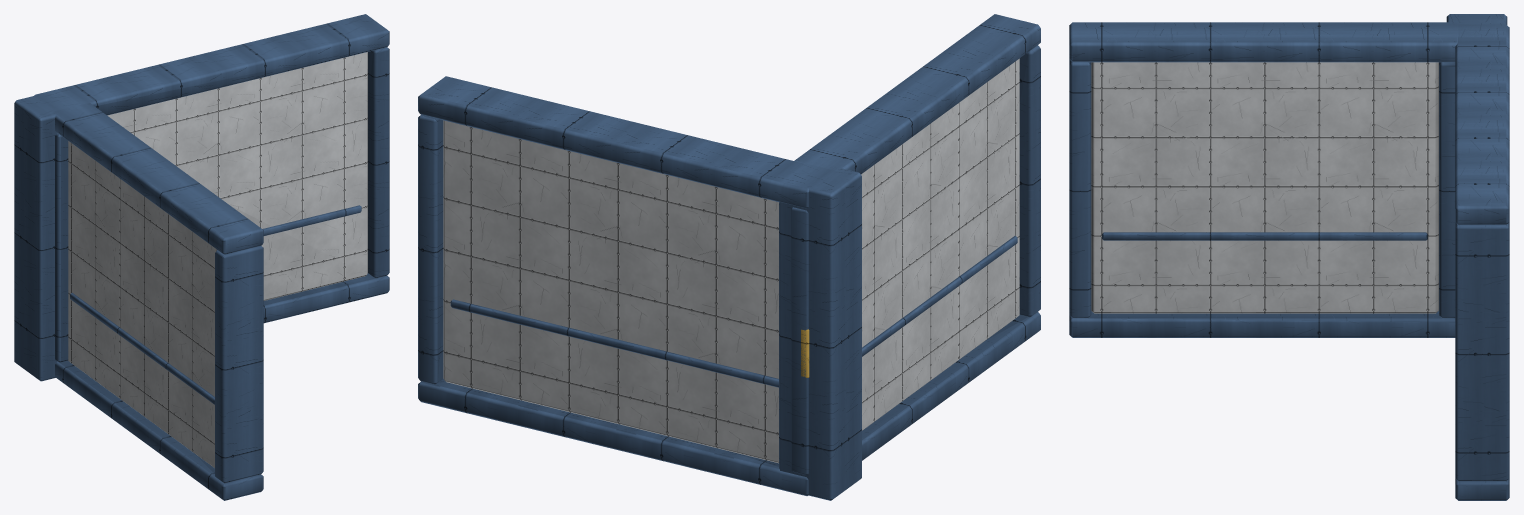
Rendered from corner_wall.glb.
3 views of the same model, side by side, from view 1: azimuth 30°, elevation 25°; view 2: azimuth 150°, elevation 25°; view 3: azimuth 270°, elevation 25° (orthographic). The views are drawn at different scales.
Visible parts, largest first — view 1: corner_wall_hull_offwhite, corner_wall_navy_frame; view 2: corner_wall_hull_offwhite, corner_wall_navy_frame; view 3: corner_wall_hull_offwhite, corner_wall_navy_frame.
Part boxes in pixels (<box>): corner_wall_hull_offwhite: <box>68,52,367,467</box>; corner_wall_navy_frame: <box>14,14,389,500</box>; corner_wall_hull_offwhite: <box>443,58,1019,463</box>; corner_wall_navy_frame: <box>418,14,1040,500</box>; corner_wall_hull_offwhite: <box>1091,62,1438,313</box>; corner_wall_navy_frame: <box>1069,14,1509,500</box>.
Size of the model in its own units: 4.23 by 3 by 4.05.
3 materials, 3 textured.
